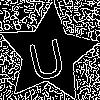U: (23, 29, 68, 82)
